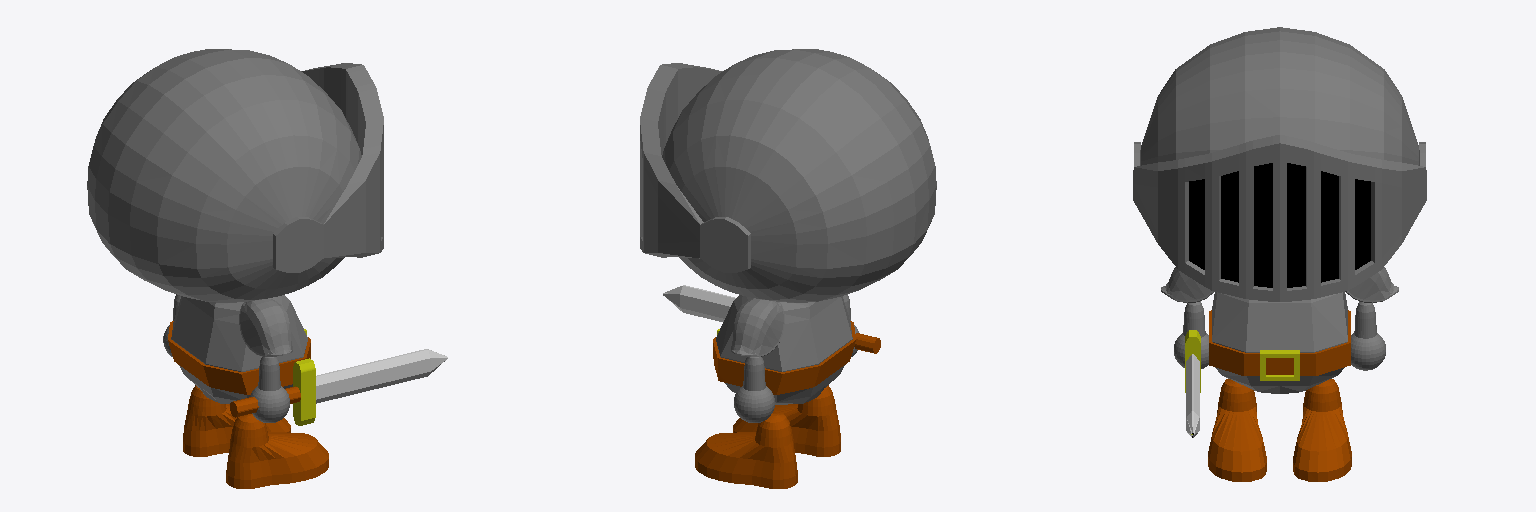
The picture shows the model from 3 angles: view 1: azimuth 30°, elevation 25°; view 2: azimuth 150°, elevation 25°; view 3: azimuth 270°, elevation 25°; orthographic projection.
Visible parts, largest first — view 1: 頭2_立方体.002; view 2: 頭2_立方体.002; view 3: 頭2_立方体.002.
Part boxes in pixels (bbox=[...]): 頭2_立方体.002: bbox=[87, 49, 447, 488]; 頭2_立方体.002: bbox=[640, 49, 936, 488]; 頭2_立方体.002: bbox=[1133, 27, 1426, 481].
Bounding box in the file's own units: 5.03 × 6.55 × 4.32.
Materials: 1 (1 with a texture image).